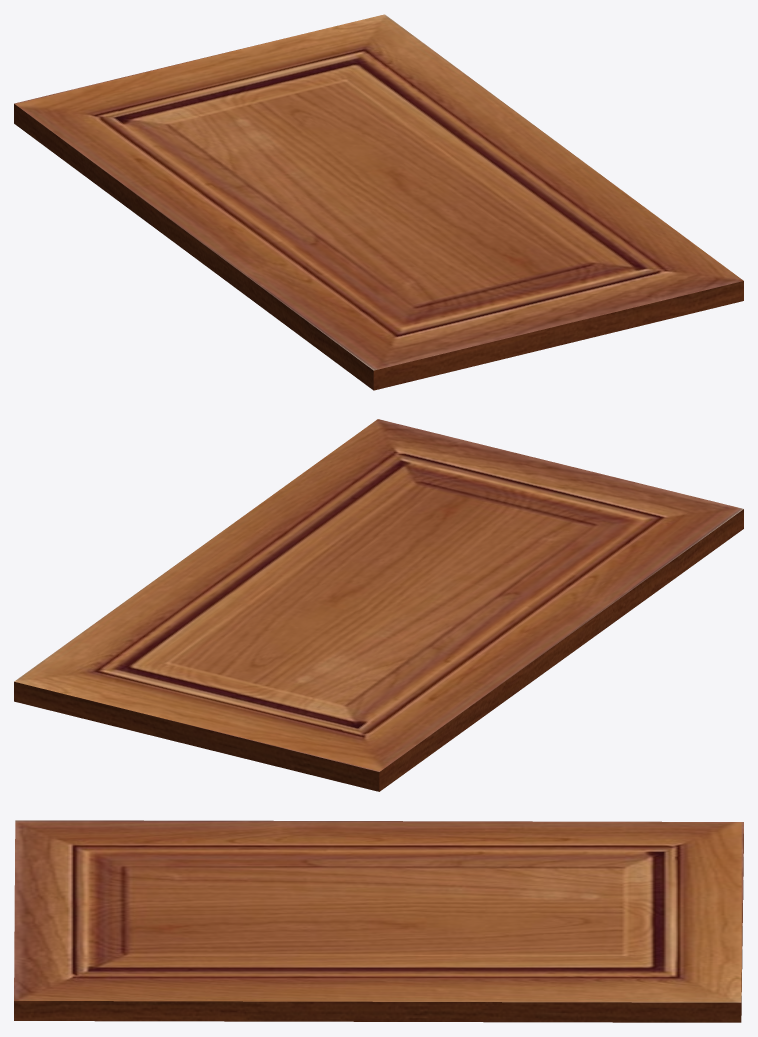
Rendered from traditional_raised_panel.glb.
3 views of the same model, one above another, from view 1: azimuth 30°, elevation 25°; view 2: azimuth 150°, elevation 25°; view 3: azimuth 270°, elevation 25° (orthographic).
Bounding box in the file's own units: 0.293 × 0.015 × 0.495.
Materials: 3 (2 with a texture image).
